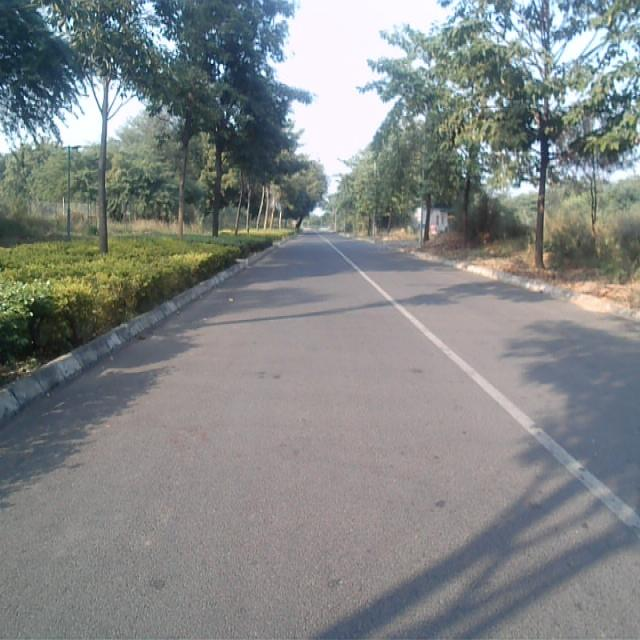lane: (0, 239, 640, 640)
